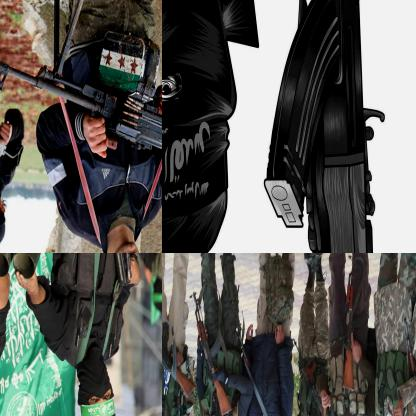rifle: (261, 0, 389, 252), (0, 0, 161, 171), (187, 289, 236, 415), (291, 339, 343, 415), (162, 290, 196, 401), (333, 270, 361, 393), (0, 89, 23, 161), (98, 253, 140, 292), (399, 321, 415, 378)
